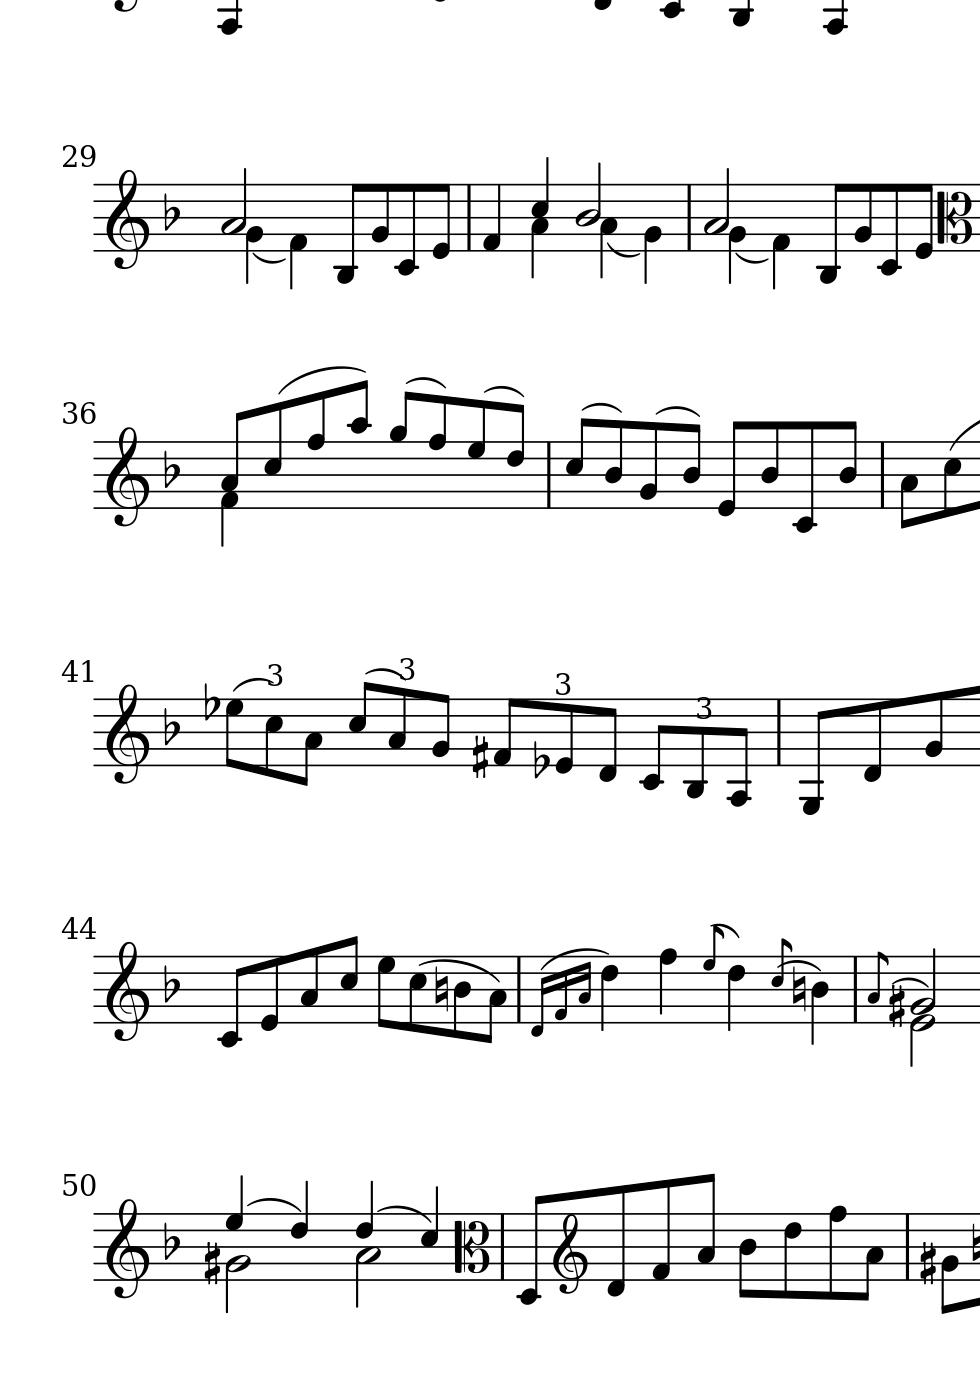0: (78, 1169, 97, 1199)
1: (80, 657, 95, 686)
2: (59, 143, 78, 169)
2_0_2: (907, 948, 938, 1066)
2_3: (700, 165, 730, 253), (217, 165, 247, 252)
2_4: (572, 160, 602, 253)
3: (267, 660, 285, 690), (59, 400, 78, 426), (694, 695, 712, 721), (399, 654, 416, 682), (554, 671, 571, 697)
4: (60, 657, 78, 686), (60, 914, 78, 942), (78, 914, 97, 942)
4_1: (770, 181, 791, 293), (288, 181, 308, 293), (479, 182, 502, 255)
4_2: (727, 181, 748, 287), (641, 182, 662, 285), (244, 180, 264, 287)
4_3_5: (529, 156, 552, 279)
4_4: (809, 954, 832, 1047)
4_5: (418, 1182, 440, 1283)
4_6: (288, 1178, 312, 1285), (598, 955, 620, 1033), (727, 955, 746, 1035)
4_8: (657, 947, 678, 1027)
5: (60, 1169, 78, 1198)
6: (77, 399, 97, 427)
8_-1: (603, 1185, 627, 1298), (860, 696, 885, 784), (596, 696, 619, 782)
8_-2: (514, 1192, 549, 1308), (789, 418, 819, 536), (637, 696, 669, 793), (217, 957, 249, 1052), (875, 180, 903, 278), (392, 180, 420, 277)
8_-3: (815, 182, 846, 285), (332, 182, 363, 285), (683, 696, 708, 800)
8_-4: (725, 695, 751, 808)
8_-5: (798, 696, 827, 814)
8_0: (715, 419, 746, 521), (907, 180, 933, 259), (257, 953, 281, 1031), (428, 182, 452, 261), (552, 697, 575, 775)
8_1: (648, 1178, 673, 1282), (491, 697, 521, 770)
8_10: (346, 379, 372, 513)
8_2: (938, 1209, 962, 1315), (636, 420, 660, 511), (921, 690, 945, 769), (428, 692, 451, 769), (851, 182, 874, 253), (369, 182, 391, 253)
8_3: (293, 696, 323, 789), (693, 1171, 717, 1283), (478, 955, 507, 1047), (858, 1211, 885, 1304), (896, 439, 918, 531), (385, 684, 409, 768), (299, 944, 321, 1025)
8_4: (601, 418, 626, 512), (835, 420, 859, 511), (758, 419, 782, 511), (735, 1211, 758, 1301), (680, 422, 702, 511), (450, 955, 472, 1041)
8_5: (563, 416, 592, 511), (346, 680, 377, 768), (261, 400, 284, 511), (262, 696, 288, 779), (337, 935, 360, 1027), (940, 439, 962, 519), (406, 955, 427, 1034)
8_6: (504, 404, 525, 511), (778, 1211, 802, 1302)
8_7: (466, 400, 486, 509), (223, 696, 244, 769), (375, 955, 396, 1031)
8_8: (427, 393, 449, 510), (824, 1204, 848, 1303), (305, 392, 326, 511)
8_9: (387, 388, 415, 511)
9: (78, 143, 97, 169)
Cclef: (451, 1211, 492, 1281), (935, 183, 974, 251)
Flat: (159, 1220, 181, 1262), (160, 448, 181, 488), (160, 705, 180, 748), (530, 738, 549, 780), (161, 191, 180, 231), (161, 963, 179, 1003), (202, 681, 218, 722)
Gclef: (104, 681, 151, 785), (104, 938, 150, 1042), (104, 166, 148, 270), (105, 1196, 150, 1299), (105, 424, 147, 527), (552, 1204, 588, 1294)
Natural: (432, 964, 450, 1013), (789, 965, 806, 1013)
Sharp: (469, 733, 491, 780), (887, 979, 907, 1030), (917, 1239, 938, 1287), (200, 1241, 220, 1288)
Single_barline: (872, 441, 892, 508), (770, 699, 788, 767), (846, 957, 864, 1022), (460, 185, 477, 251), (681, 185, 698, 250), (899, 1214, 916, 1280), (510, 957, 526, 1023), (494, 1213, 509, 1281)
Slur: (274, 364, 367, 397), (417, 957, 504, 984), (540, 945, 610, 970), (377, 1204, 432, 1225), (246, 1197, 301, 1213), (229, 676, 275, 692), (654, 403, 701, 418), (482, 381, 525, 397), (603, 242, 640, 260), (405, 373, 448, 388), (580, 399, 623, 414), (778, 958, 821, 972), (708, 923, 741, 940), (364, 666, 403, 680), (251, 251, 286, 265), (733, 252, 768, 265)
